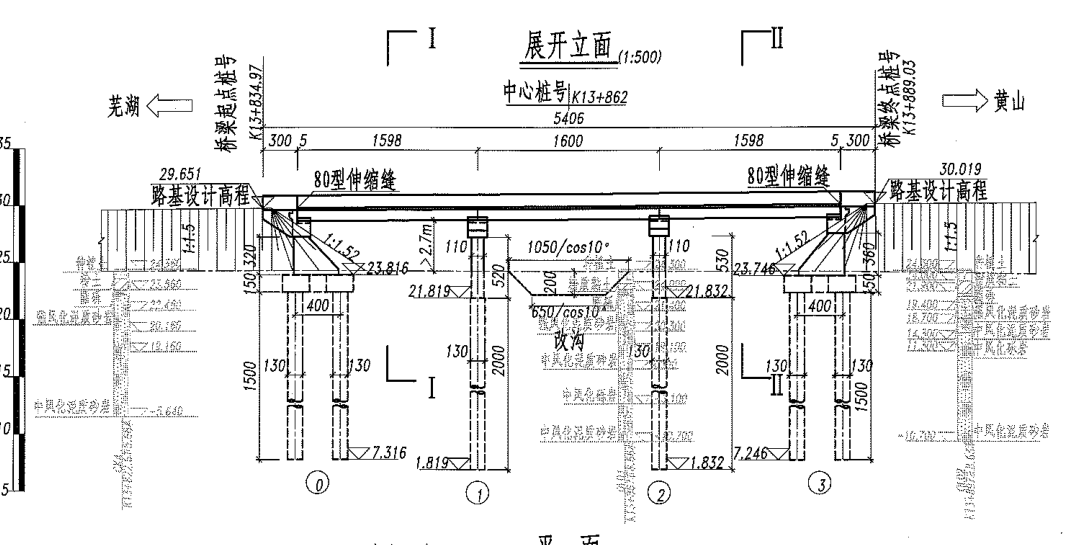C: (726, 259, 859, 501), (400, 211, 502, 509), (634, 208, 733, 507)
